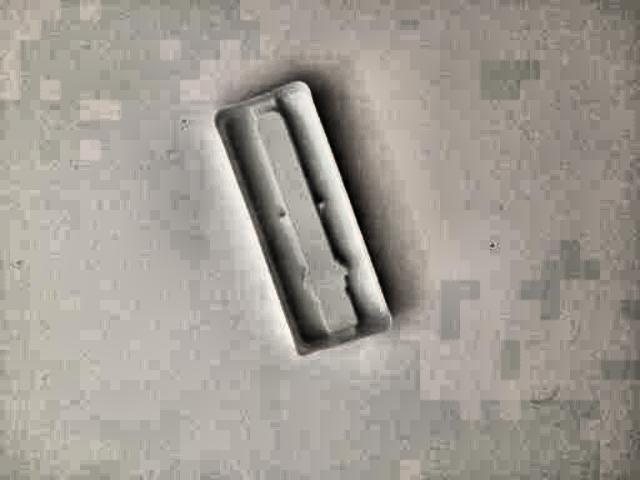Plastic: (200, 68, 412, 377)
